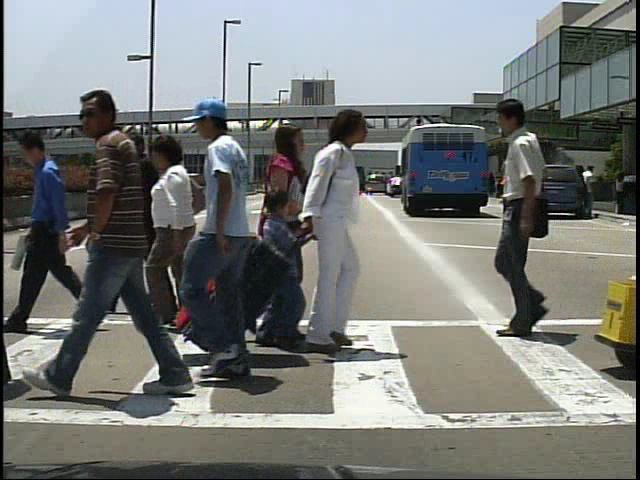person: (39, 84, 219, 409), (186, 105, 294, 388), (479, 91, 576, 339), (297, 104, 379, 357), (11, 122, 102, 338), (258, 121, 321, 360), (109, 130, 182, 322), (141, 133, 206, 327), (259, 181, 303, 354), (582, 164, 602, 218), (498, 166, 516, 219), (506, 165, 525, 215)
